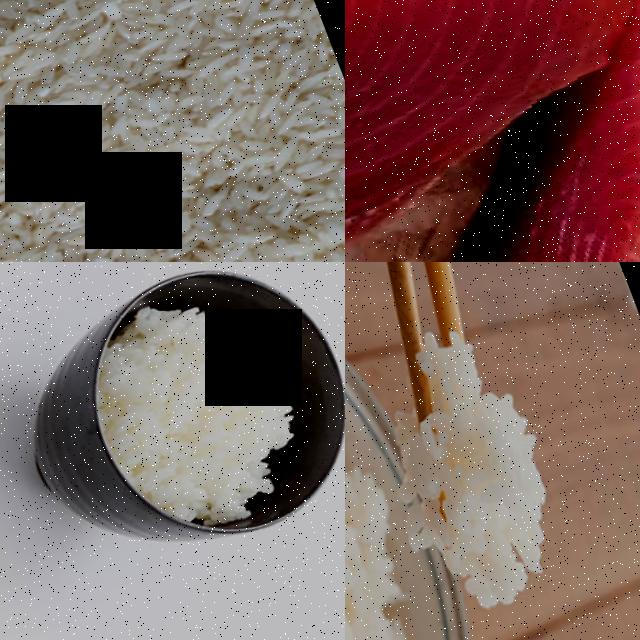tuna: (345, 0, 640, 261), (349, 23, 640, 262)
white rice: (0, 0, 345, 262), (91, 299, 301, 524), (418, 382, 586, 606), (345, 384, 421, 640)
